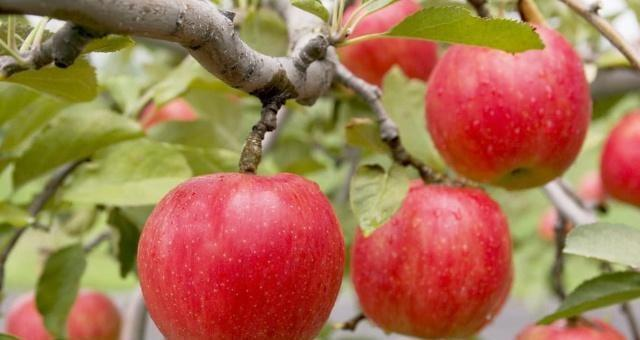apple: (133, 175, 343, 340), (422, 20, 590, 192), (352, 180, 512, 336), (327, 3, 438, 90), (596, 110, 640, 207)
